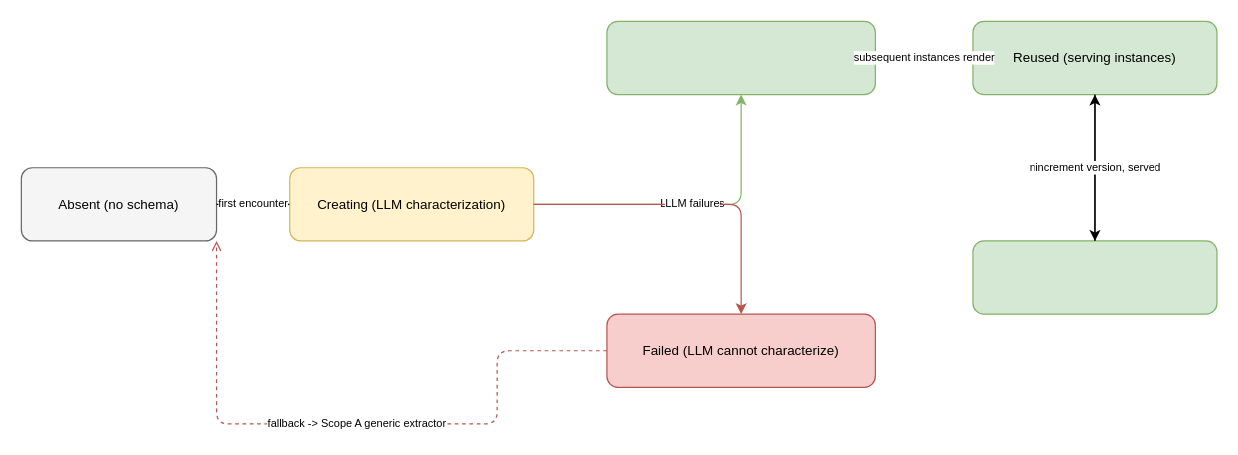
This 1238x455 diagram has some shape labels left out. Each missing label, with the centre of its shape:
Stored v1 (PEGA_SCHEMA_ENRICHED): (740,57)
Updated vN (progressive): (1094,277)
